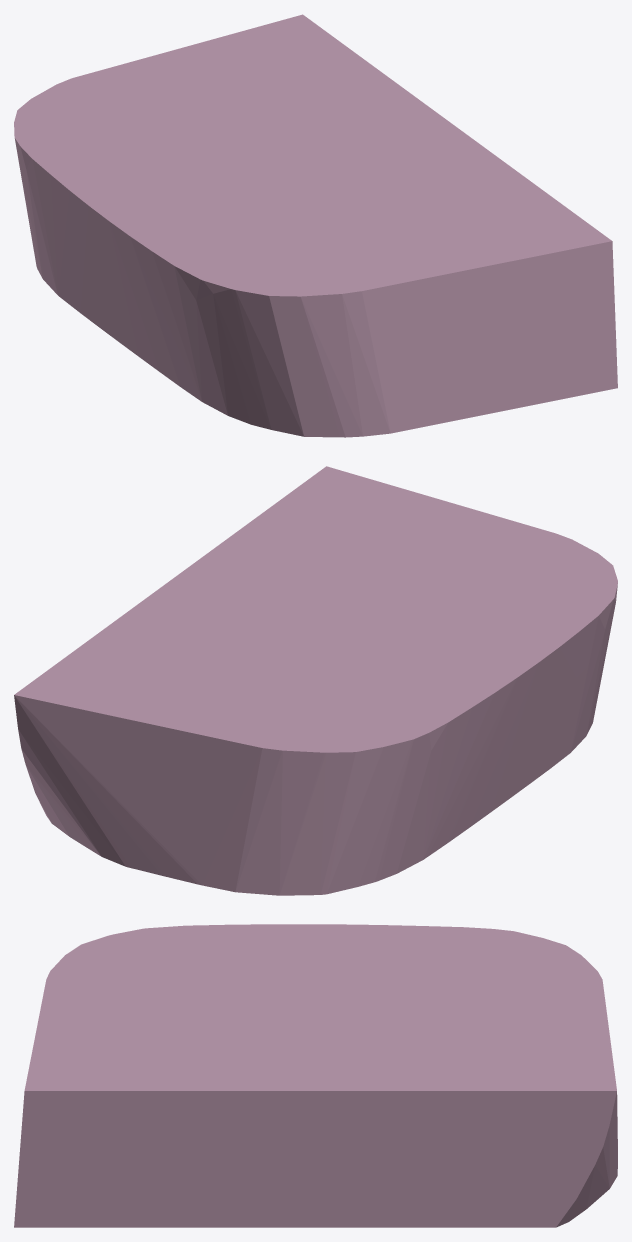
Rendered from arch_peg_convex_coll_006.obj.
3 renders of one model, top to bottom at view 1: azimuth 30°, elevation 25°; view 2: azimuth 150°, elevation 25°; view 3: azimuth 270°, elevation 25°, orthographic. The views are drawn at different scales.
Bounding box in the file's own units: 0.0179 × 0.00685 × 0.0274.
